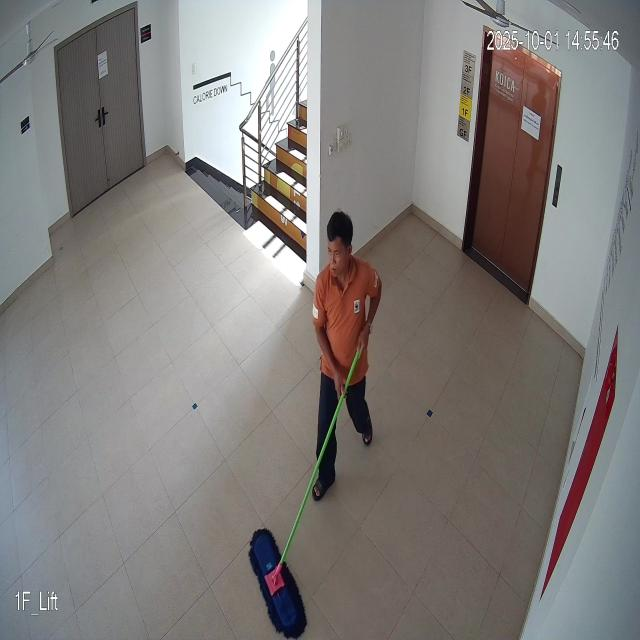face: (321, 204, 358, 288)
